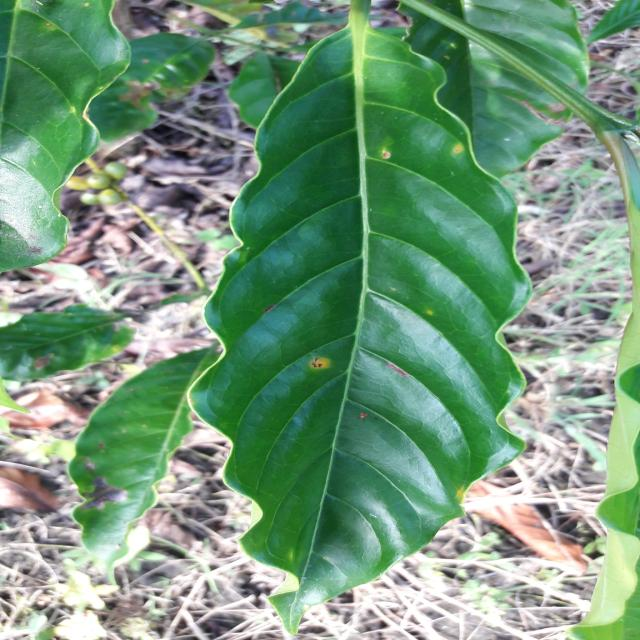Enfermedad-Roya: (68, 0, 532, 632)
